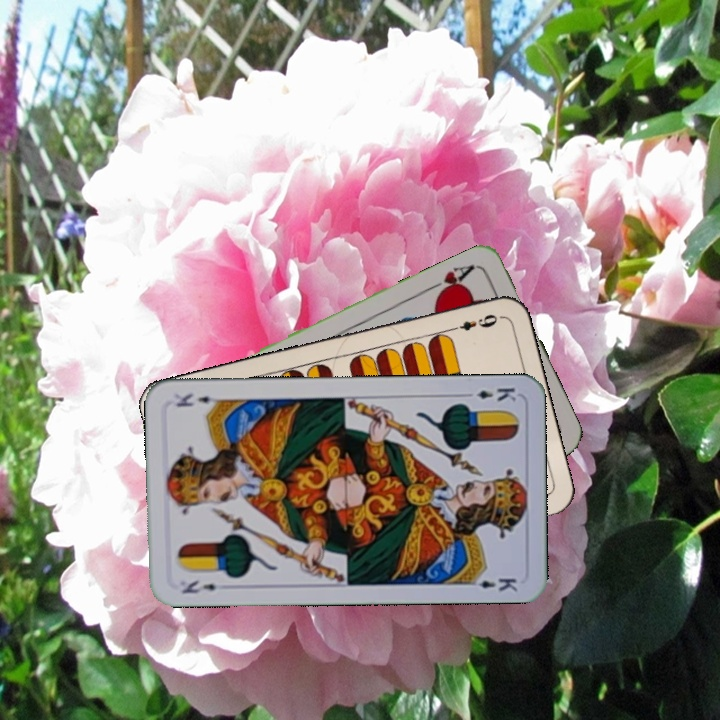E9: (445, 310, 503, 334)
EK: (460, 383, 519, 404), (178, 576, 219, 596)
HA: (423, 260, 478, 301)
